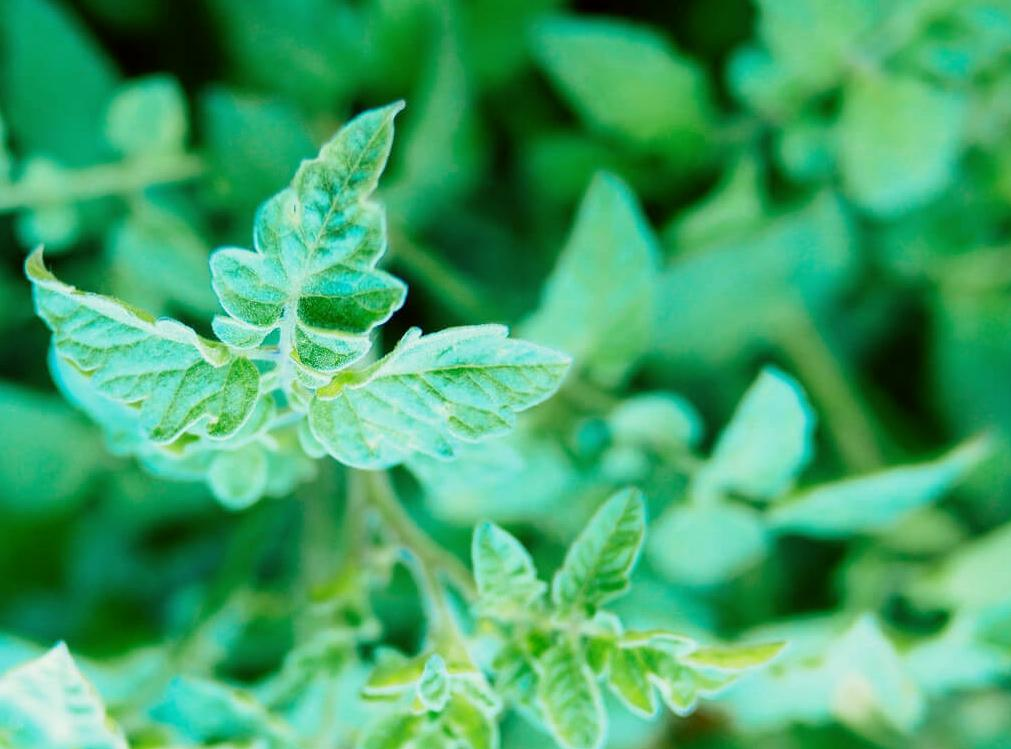Tomato leaf: (2, 248, 294, 482), (234, 71, 432, 399), (292, 305, 566, 472)
